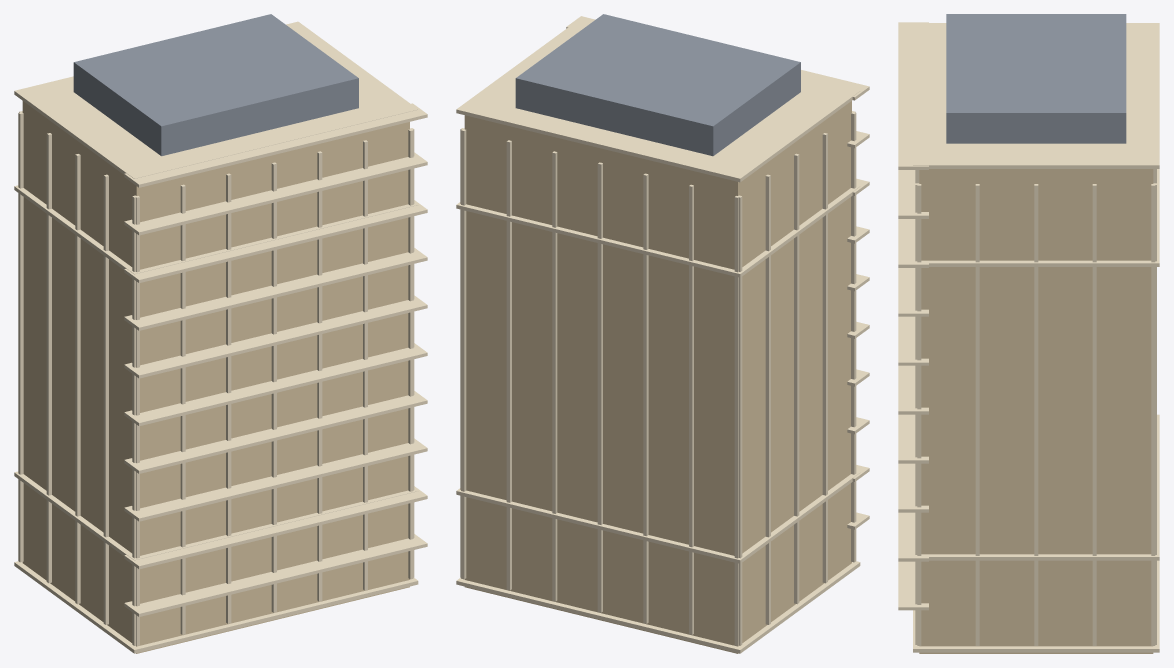
The model's file is modern-4-lod0.glb.
The picture shows the model from 3 angles, left to right: view 1: azimuth 30°, elevation 25°; view 2: azimuth 150°, elevation 25°; view 3: azimuth 270°, elevation 25°; orthographic projection. The views are drawn at different scales.
Parts seen in each view (by area): view 1: modern-4_architecture; view 2: modern-4_architecture; view 3: modern-4_architecture.
Boxes of the visible parts, x1=… form: modern-4_architecture: x1=14, y1=14, x2=427, y2=653; modern-4_architecture: x1=456, y1=14, x2=869, y2=653; modern-4_architecture: x1=898, y1=14, x2=1159, y2=653.
Size of the model in its own units: 19 by 32 by 14.5.
